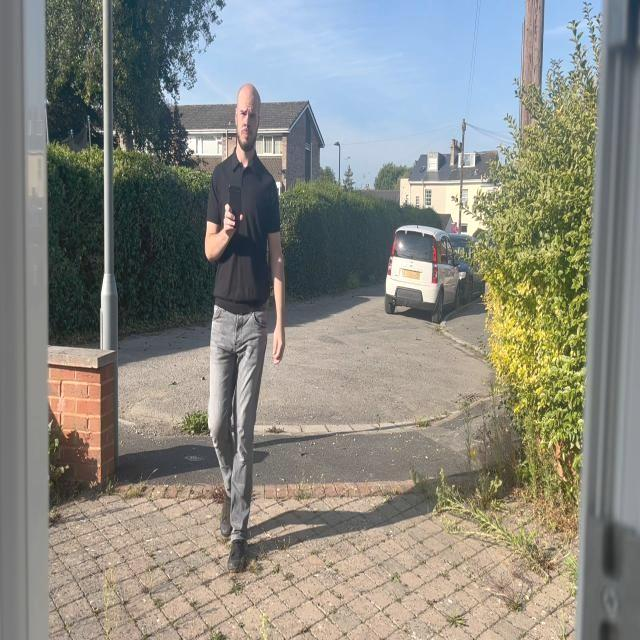lens: (236, 188, 240, 194)
phone: (228, 184, 241, 228)
